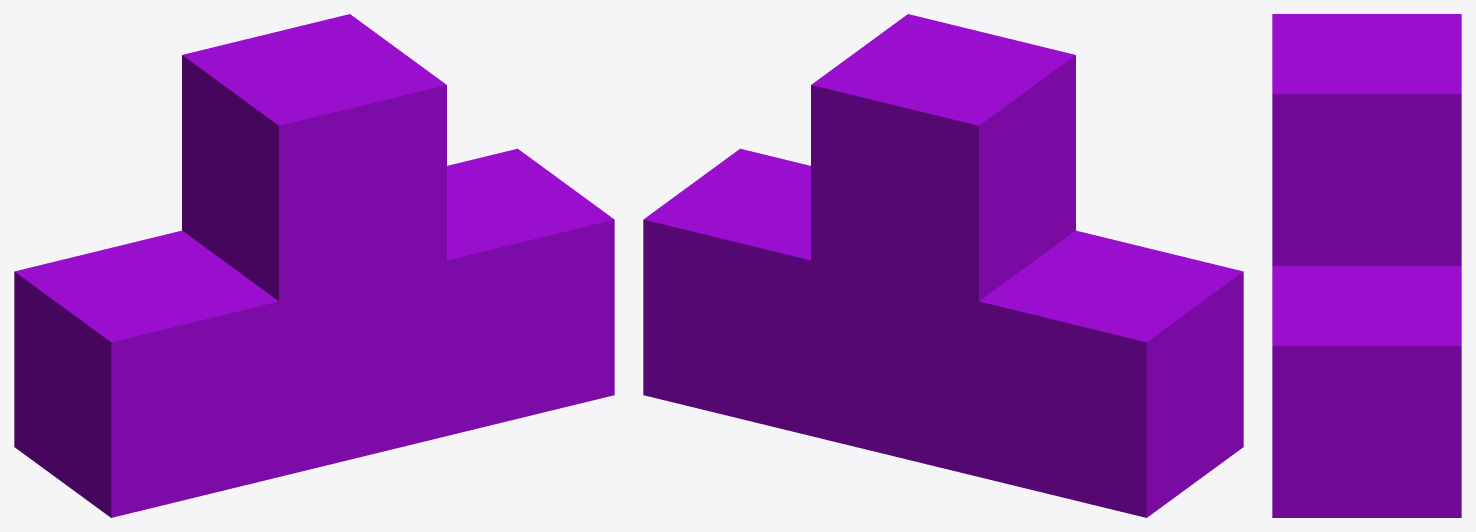
The model's file is Tpiece.gltf.
3 renders of one model, left to right at view 1: azimuth 30°, elevation 25°; view 2: azimuth 150°, elevation 25°; view 3: azimuth 270°, elevation 25°, orthographic. The views are drawn at different scales.
Parts seen in each view (by area): view 1: Cube.002, Cube, Cube.001, Cube.003; view 2: Cube.002, Cube, Cube.001, Cube.003; view 3: Cube.001, Cube.002.
Boxes of the visible parts, x1,y1,x2,y2 form: Cube.002: (182,14,446,301); Cube: (14,230,278,517); Cube.001: (447,148,614,435); Cube.003: (279,260,446,476); Cube.002: (811,14,1075,301); Cube: (979,230,1243,517); Cube.001: (643,148,810,435); Cube.003: (811,260,978,476); Cube.001: (1272,266,1461,517); Cube.002: (1272,14,1461,265).
Bounding box in the file's own units: 6 × 4 × 2.
